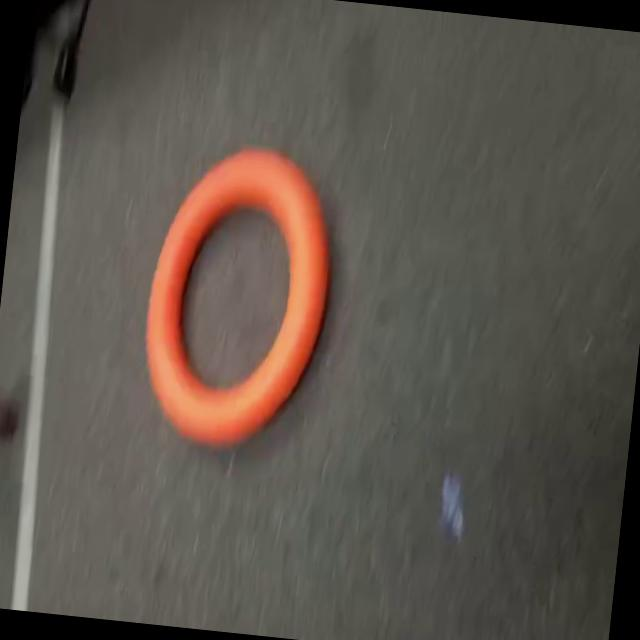note: (127, 127, 350, 464)
